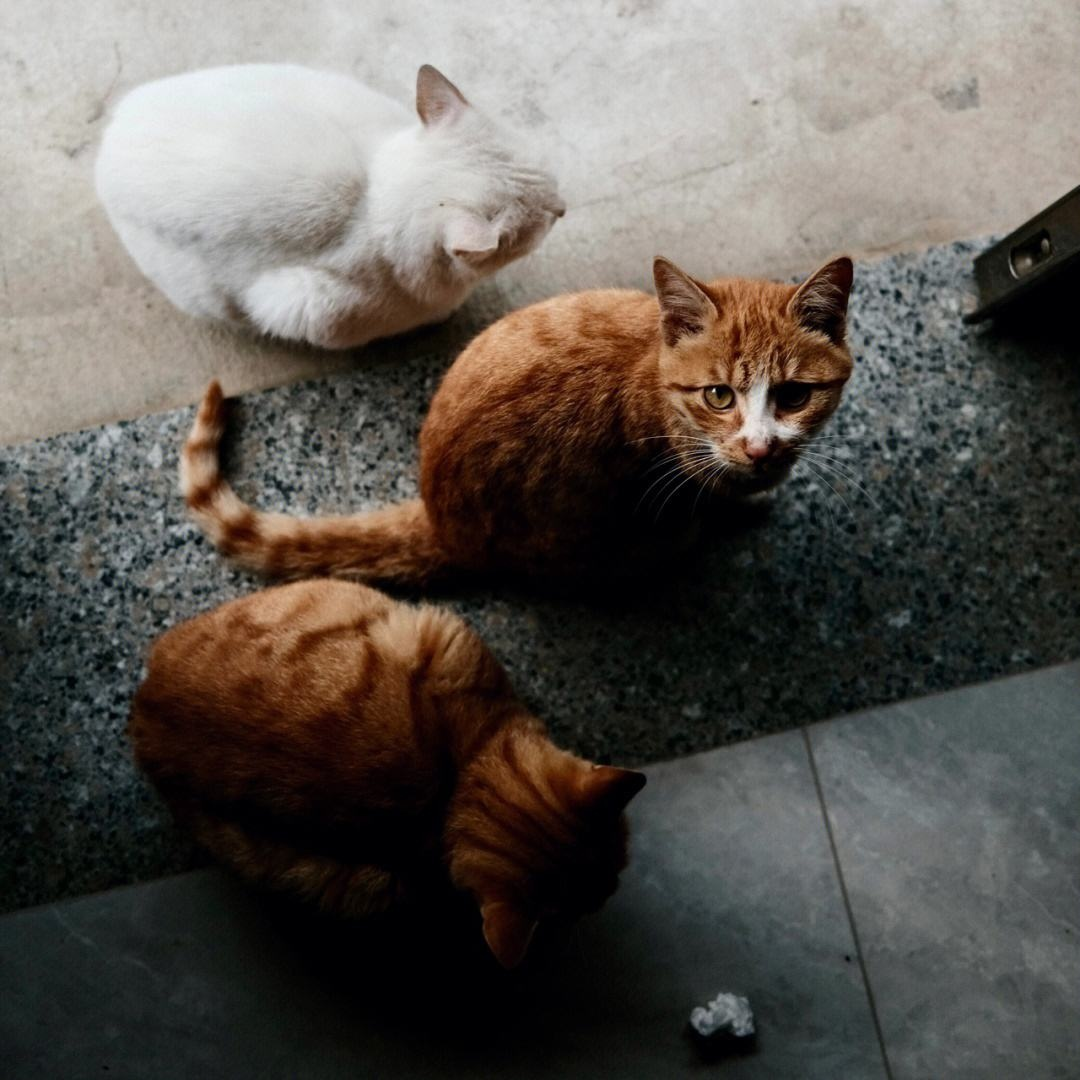cat: (175, 251, 858, 585), (133, 580, 648, 963), (92, 60, 566, 353)
